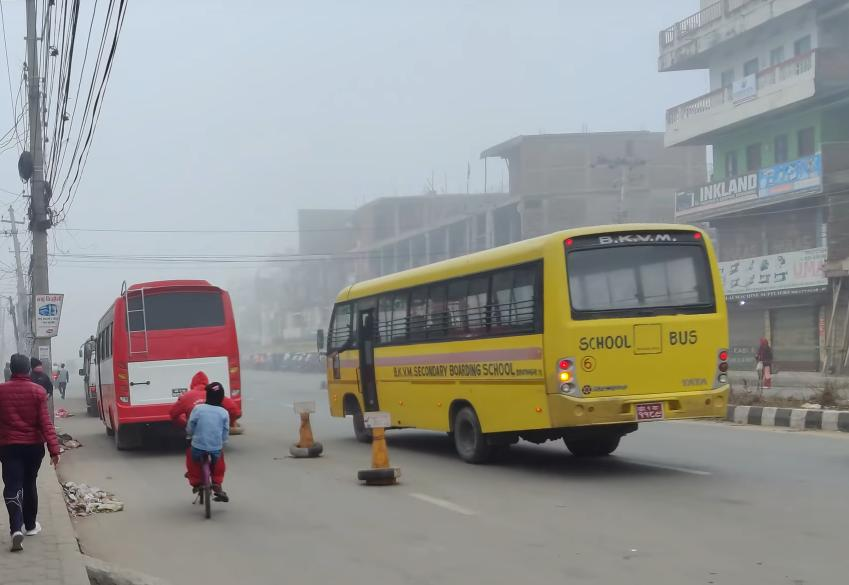bus: (87, 282, 242, 453)
school_bus: (315, 220, 733, 471)
